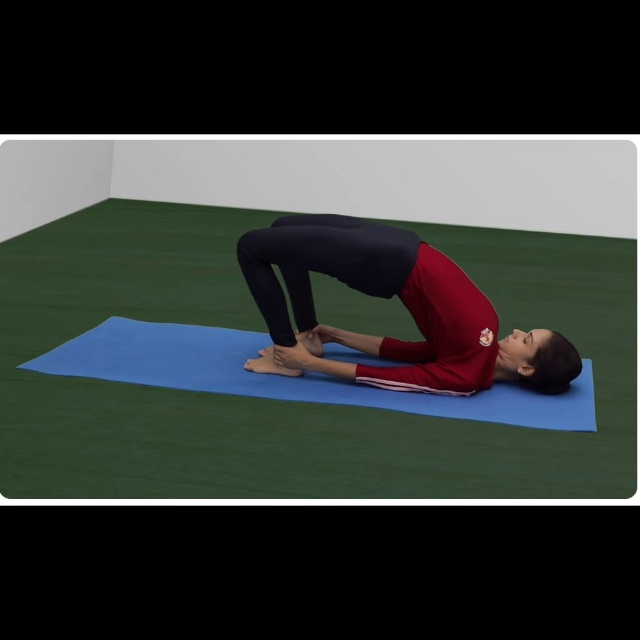Bridge_Pose: (226, 205, 592, 415)
